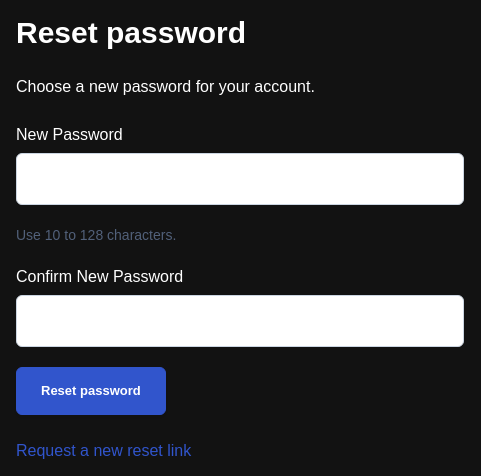
Test: removes the reset secret from the URL and submits only after explicit confirmation
Expected: the form is shown, [16,123,464,415]
Type "a new secure password" into the password field labelled "New Password". click: {"x": 240, "y": 179}
box: [16,153,464,205]
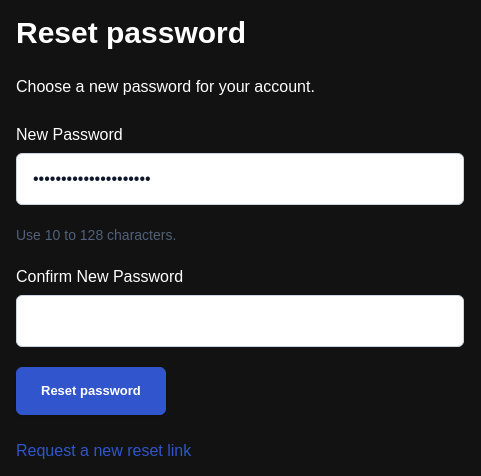
Type "a new secure password" into the password field labelled "Confirm New Password". click: {"x": 240, "y": 321}
box: [16,295,464,347]
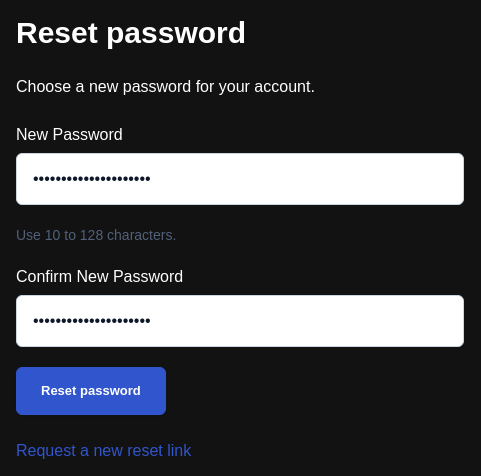
Submit the form, box [16,123,464,415]
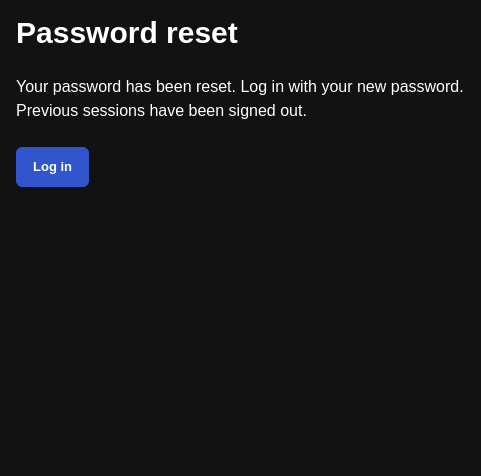
Expected: the heading "Password reset" is shown, [16,16,238,49]
